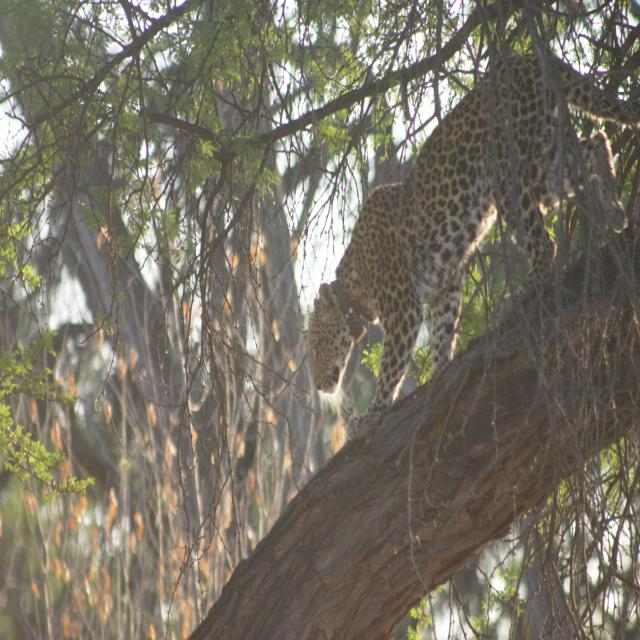Leopard: (298, 0, 620, 475)
